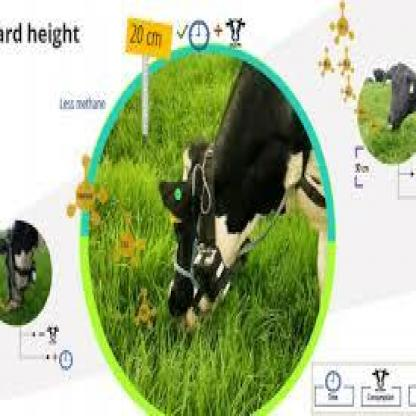cow: (159, 62, 311, 330), (0, 220, 39, 306), (373, 62, 416, 130)
